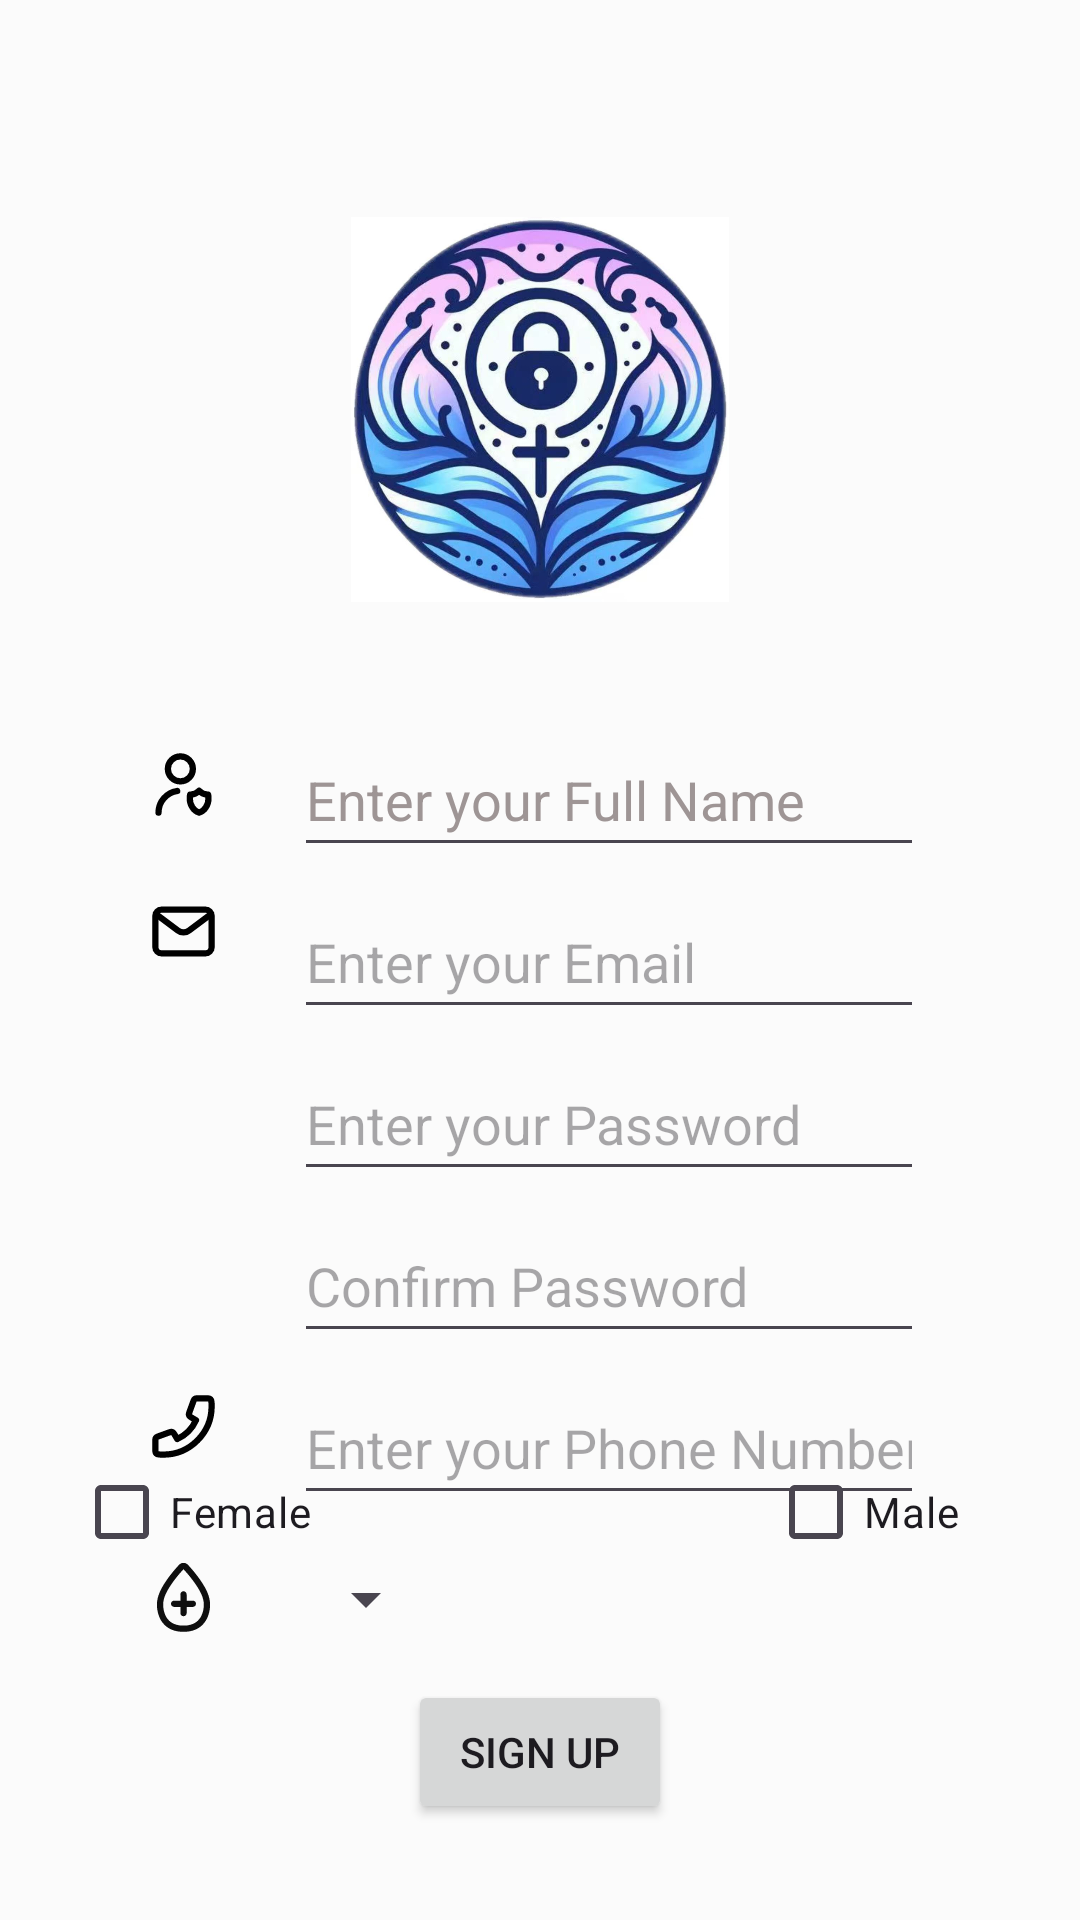

Screen size 1080 x 1920. Icon name, then its box in pixels as (x1, y1, x2, y2):
blood type: (157, 1563, 210, 1632)
phone flip: (152, 1395, 215, 1458)
user shield: (155, 753, 212, 816)
